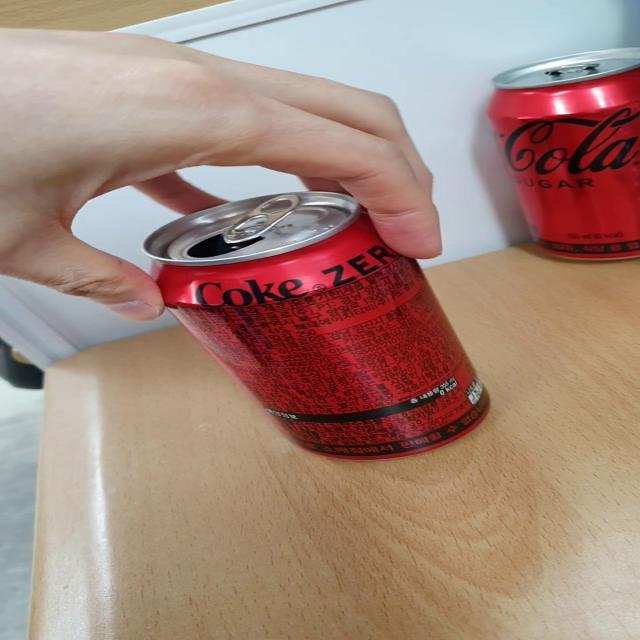coca-cola: (129, 178, 521, 482), (482, 44, 640, 272)
